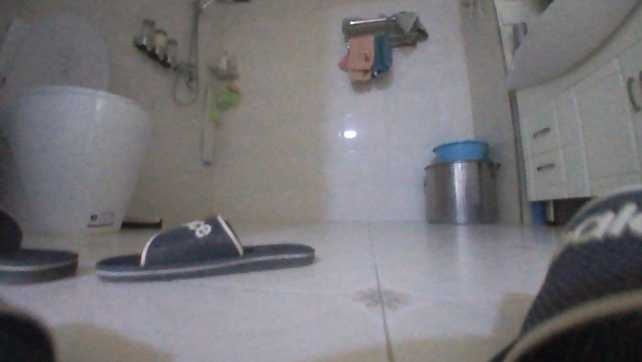slipper: (90, 210, 316, 281)
toilet: (3, 0, 153, 241)
washstand: (503, 2, 642, 204)
